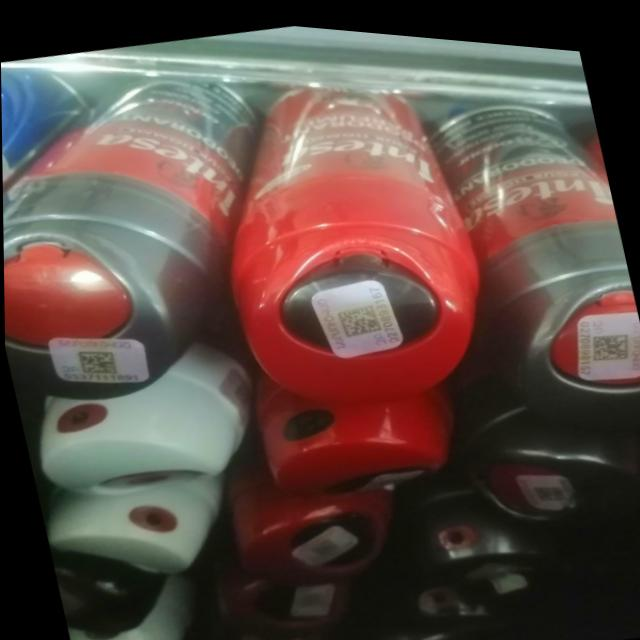datamatrix: (333, 295, 382, 336), (585, 316, 633, 355), (72, 342, 118, 381)
